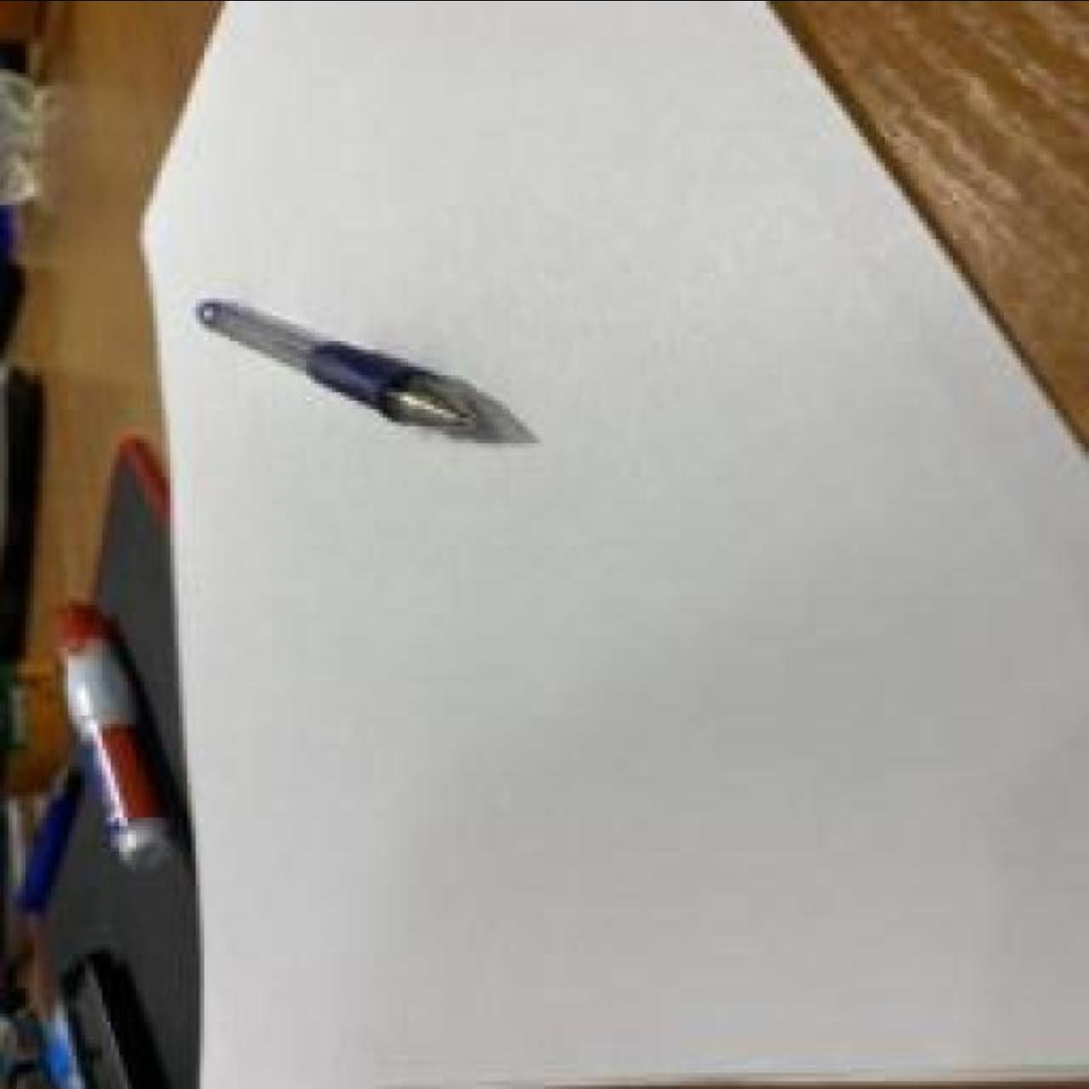pen: (187, 298, 490, 439)
